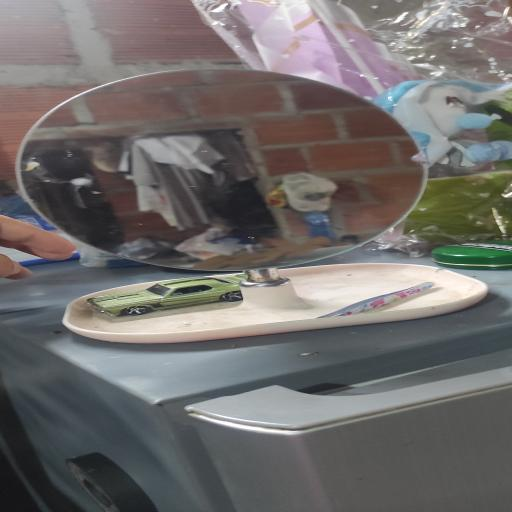Carrito: (87, 275, 244, 317)
